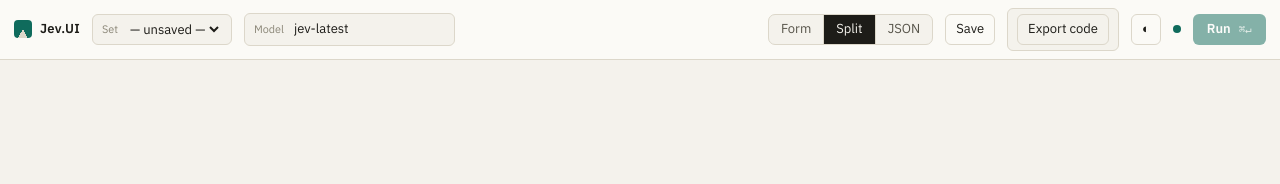
Test: TopBar › exports cURL to the clipboard and shows a transient Copied status
Click the button "Export code": (1063, 29) [1017,14,1109,45]
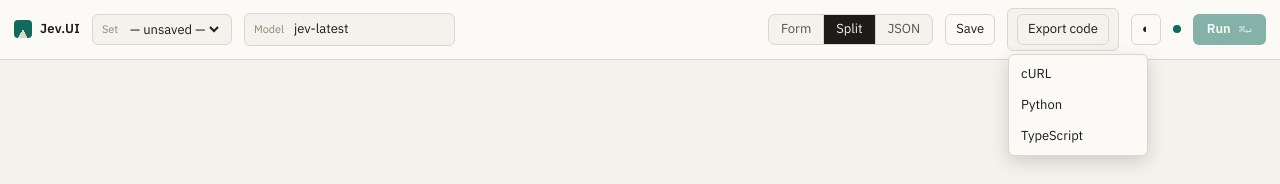
Click the menu item "cURL": (1078, 74) [1013,59,1143,90]
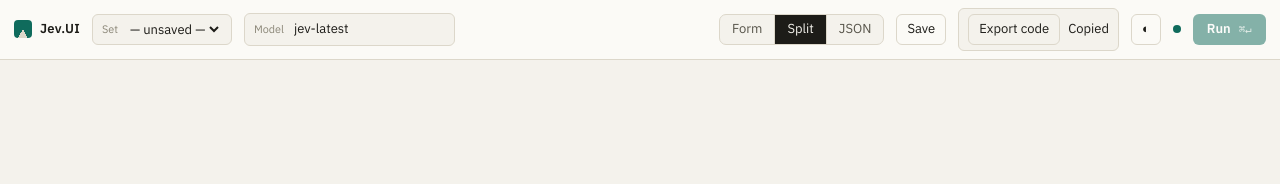
Now the message reads "Copied", box [1068,20,1109,37]
